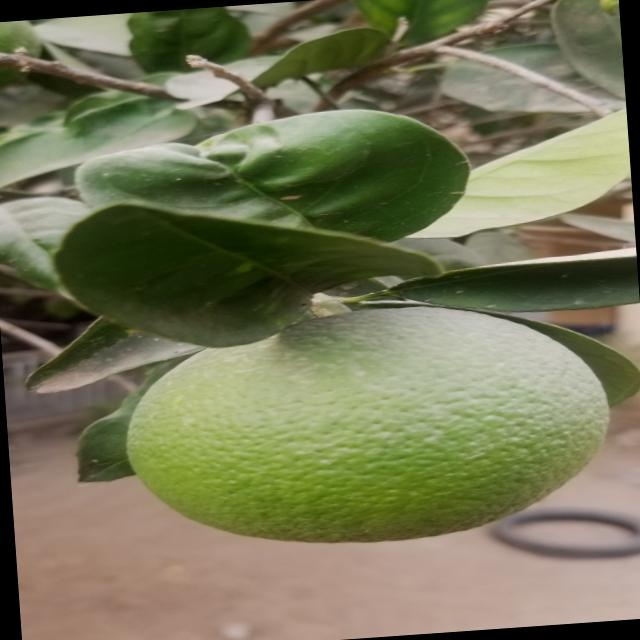agrume: (113, 286, 631, 557)
